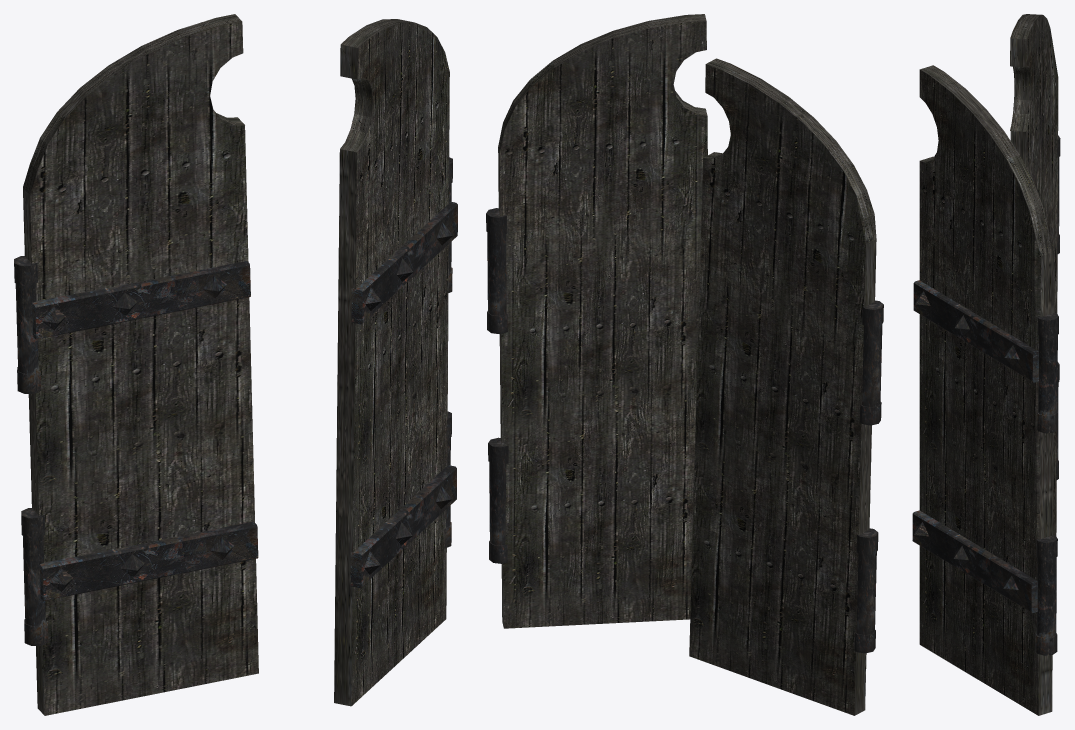
Rendered from Window_Barriers_04.fbx.
The picture shows the model from 3 angles, left to right: view 1: azimuth 30°, elevation 25°; view 2: azimuth 150°, elevation 25°; view 3: azimuth 270°, elevation 25°; orthographic projection. The views are drawn at different scales.
Visible parts, largest first — view 1: Window_Barriers_04; view 2: Window_Barriers_04; view 3: Window_Barriers_04.
Part boxes in pixels (<box>): Window_Barriers_04: <box>14,14,457,715</box>; Window_Barriers_04: <box>486,14,883,715</box>; Window_Barriers_04: <box>912,14,1060,715</box>.
Bounding box in the file's own units: 87.13 × 127 × 29.1.
